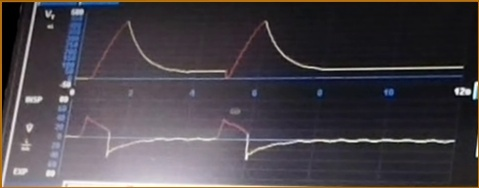Flow: (69, 113, 381, 178)
Leakage Volume: (85, 15, 409, 86)
